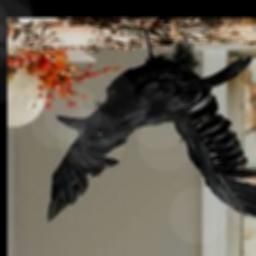Crow: (43, 31, 256, 230)
